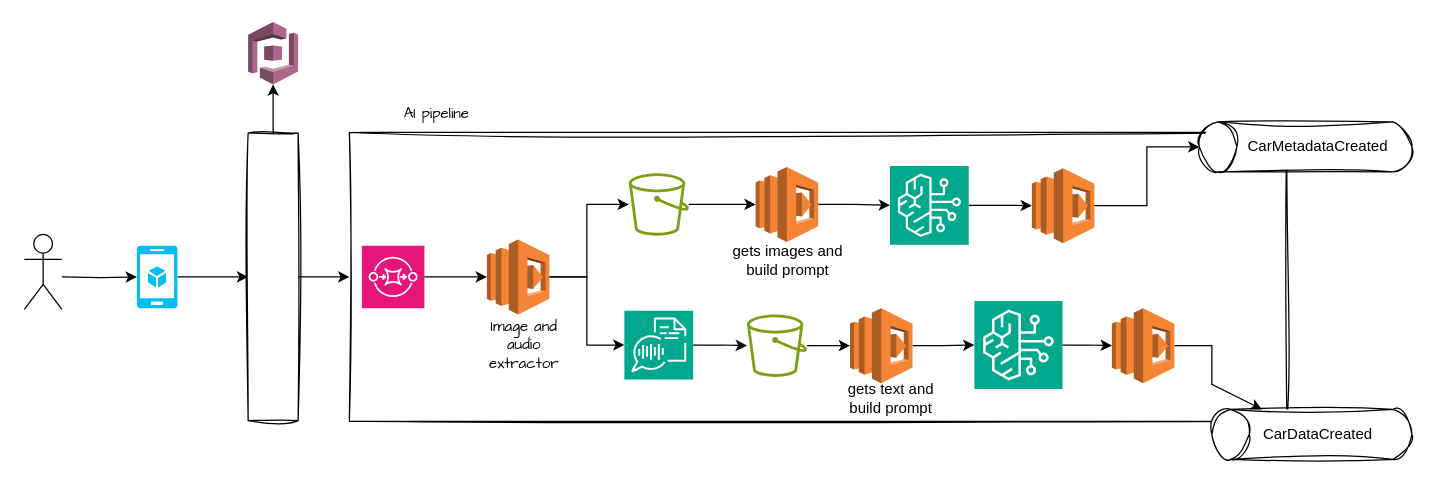
This 1434x481 diagram has some shape labels left out. Here are the shapes that lost their labels. From the top down, the box of each, then its label:
(23, 233, 62, 309): Dealer
(247, 132, 298, 421): API GW
